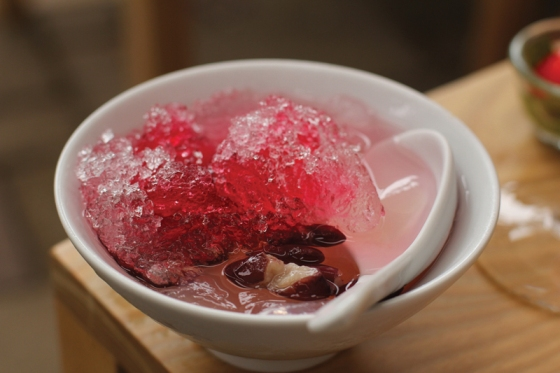O-eo: (53, 59, 514, 346)
